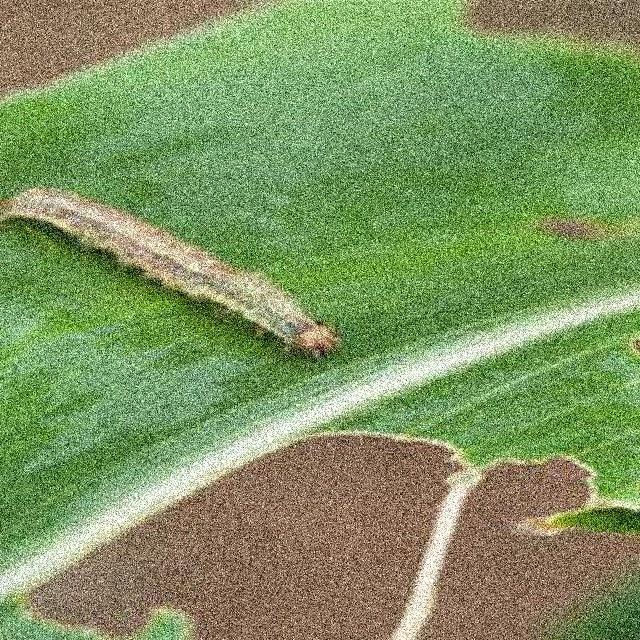gusano_cogollero: (0, 183, 340, 363)
